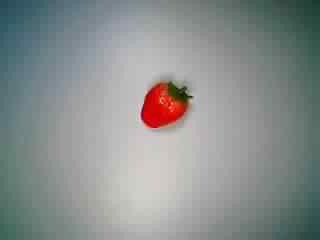strawberry: (131, 76, 199, 140)
